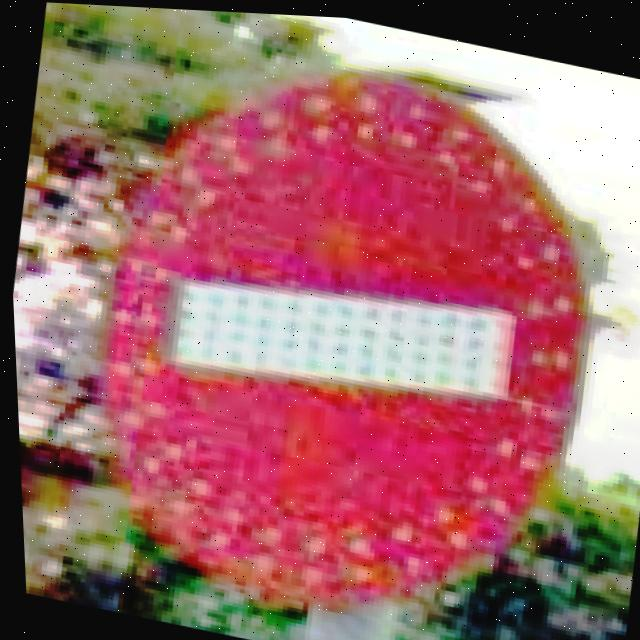noentry: (43, 13, 639, 640)
